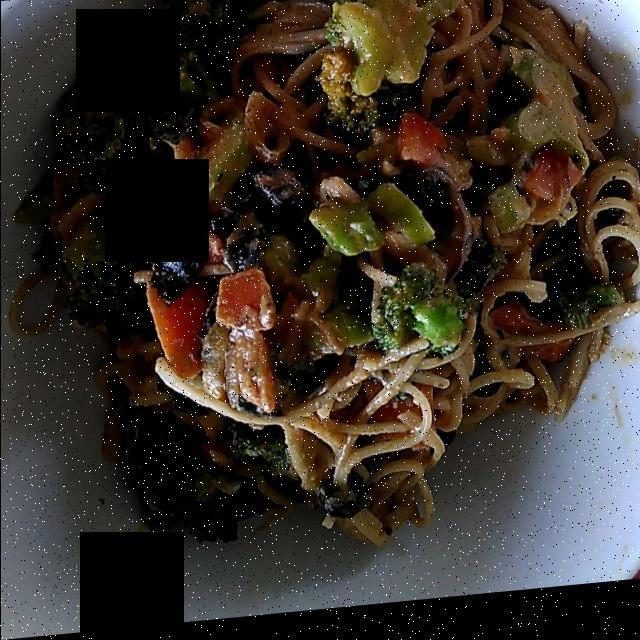mixed-vegetables: (66, 0, 630, 558)
